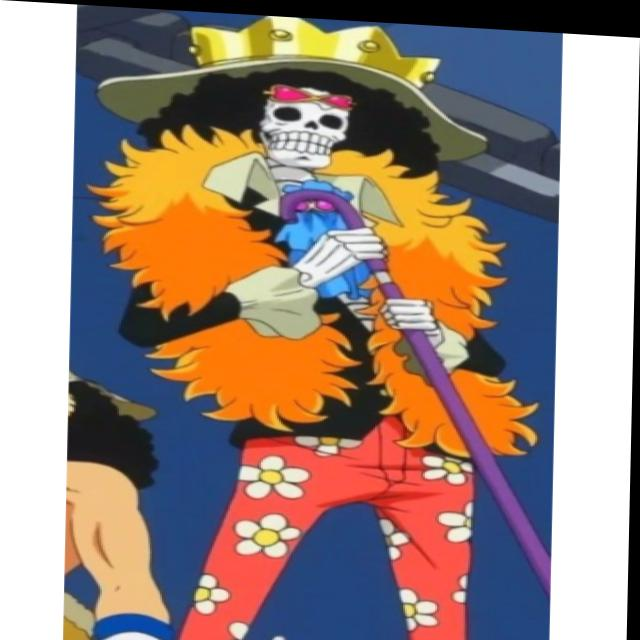Blook: (119, 22, 478, 193)
